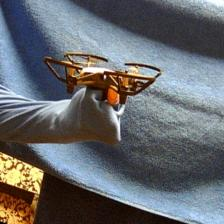drone: (44, 52, 162, 108)
